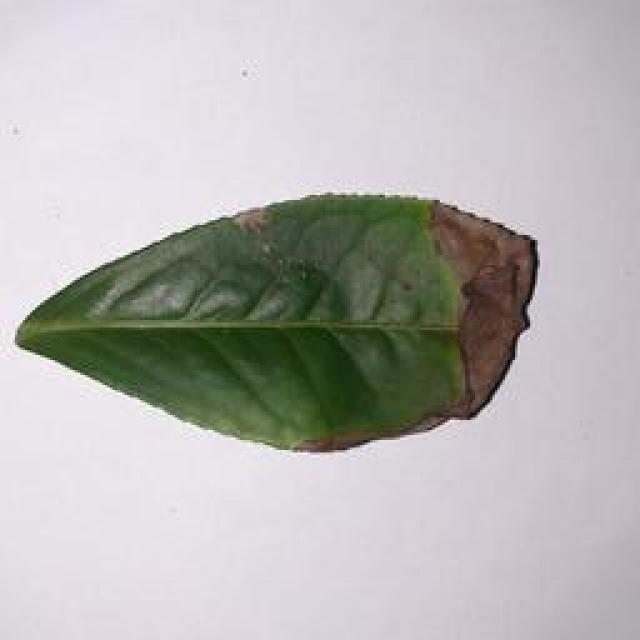Brown Blight: (3, 179, 557, 462)
